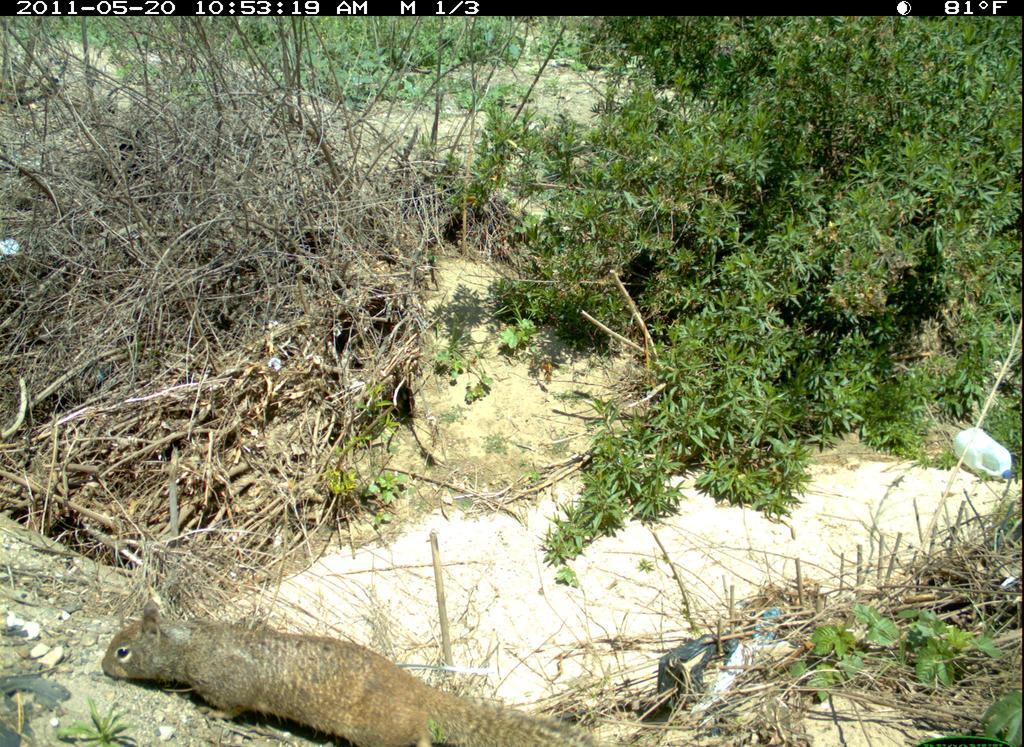squirrel: (94, 592, 574, 747)
